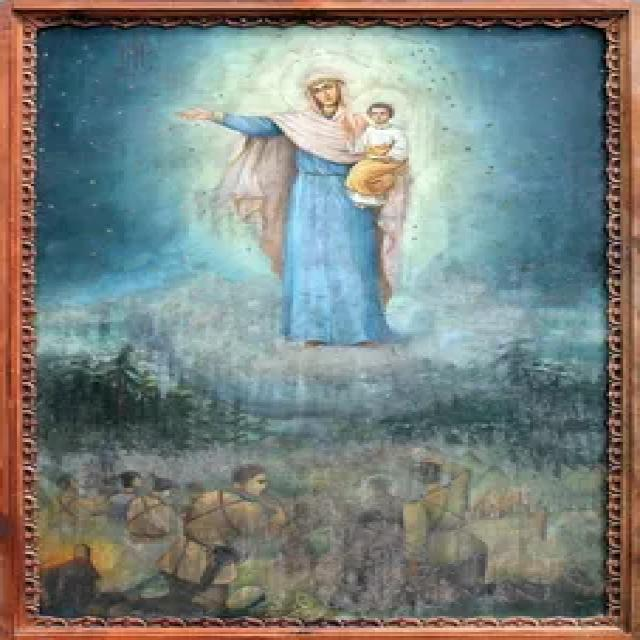mother of god: (198, 64, 432, 356)
